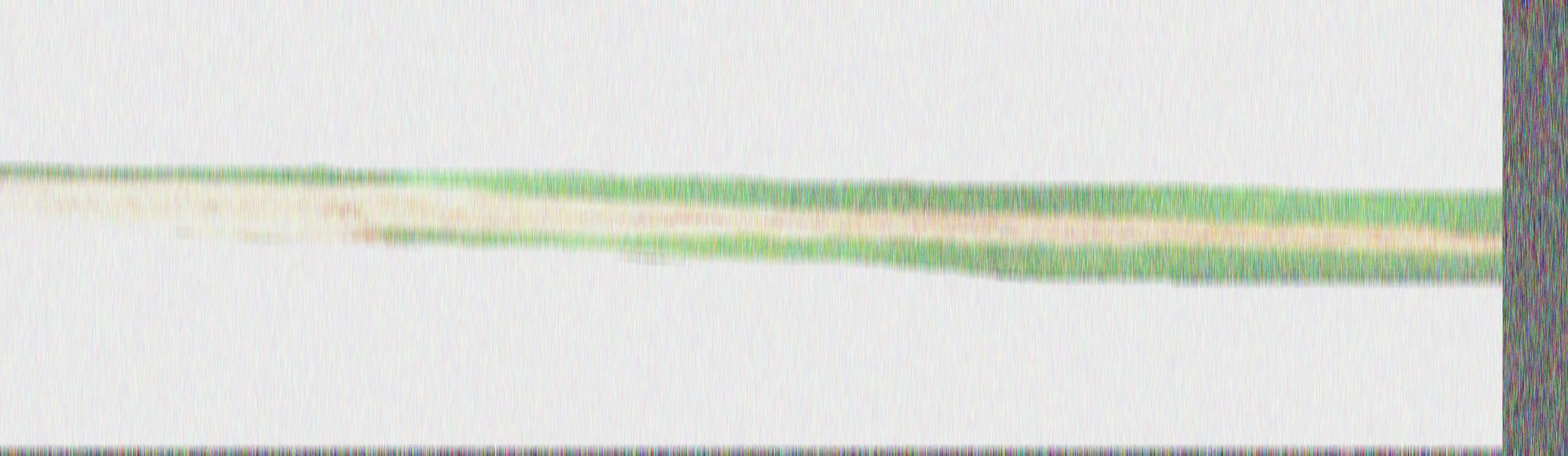Leaf_Blast: (0, 180, 1500, 262)
